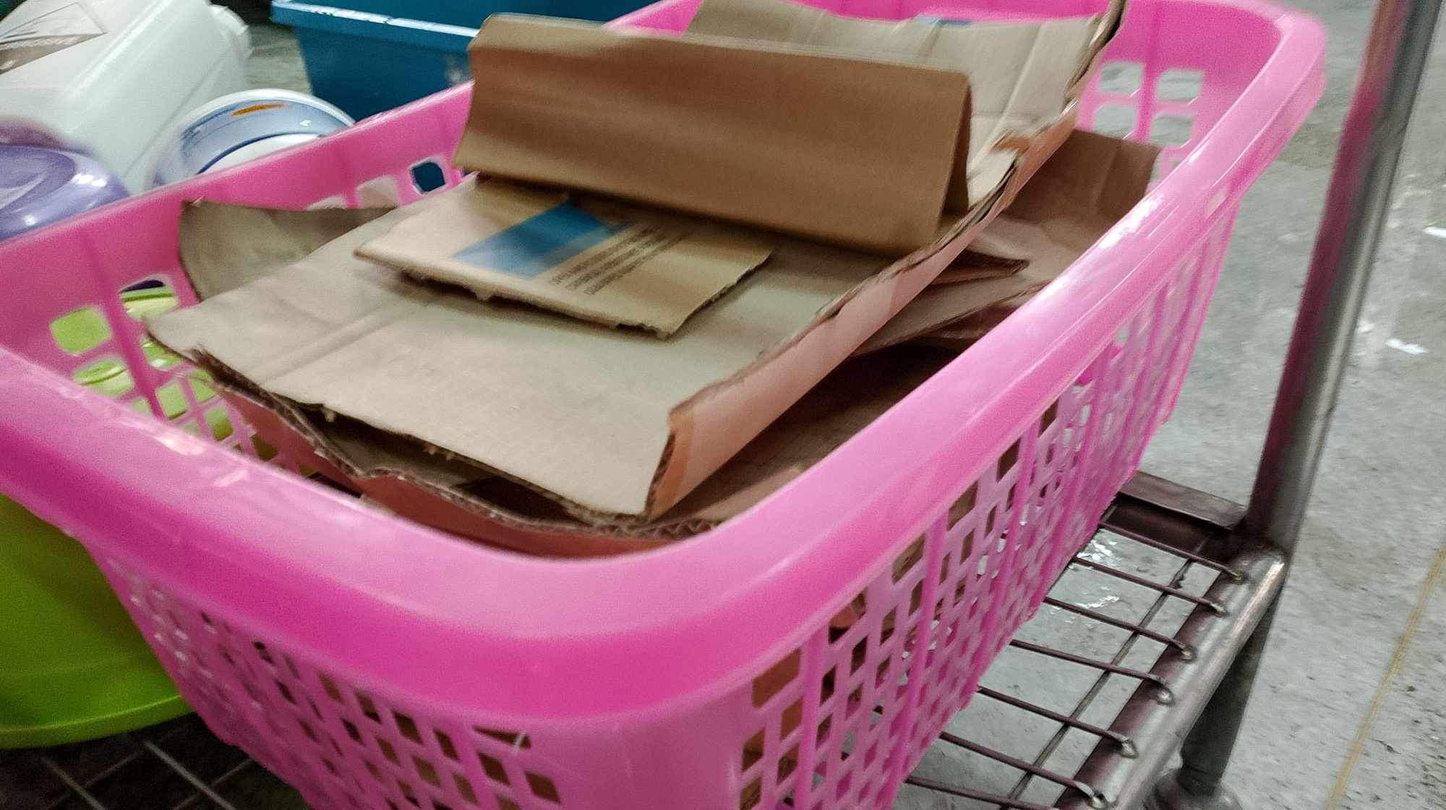General: (4, 2, 1421, 806)
Infectious: (450, 10, 973, 258)
Pathological: (145, 4, 1125, 530)
Sharps: (268, 0, 482, 43)
